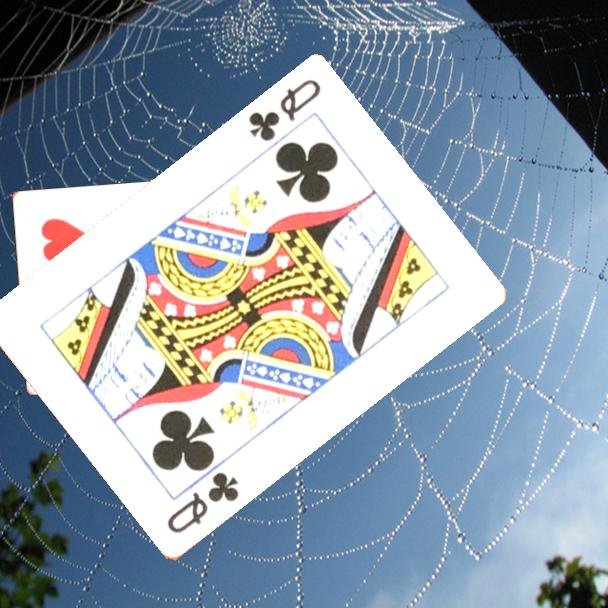c12: (163, 468, 242, 538), (244, 76, 324, 145)
